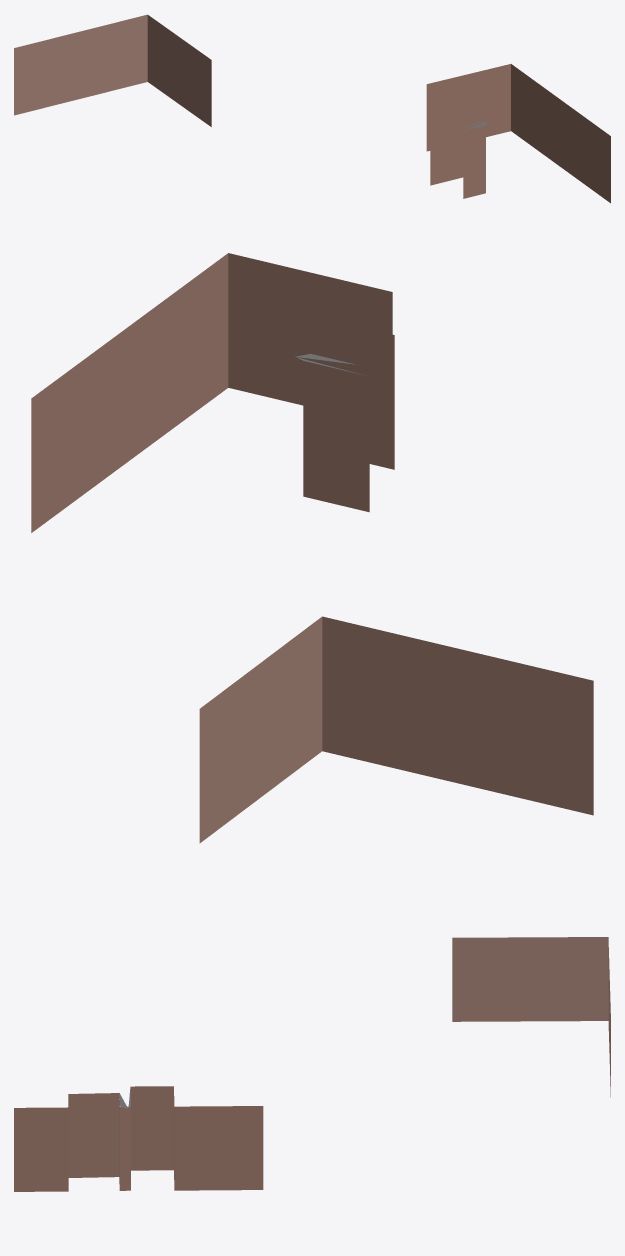
File: c_1630_17832_buildings_residential.glb
3 views of the same model, one above another, from view 1: azimuth 30°, elevation 25°; view 2: azimuth 150°, elevation 25°; view 3: azimuth 270°, elevation 25° (orthographic). The views are drawn at different scales.
Parts seen in each view (by area): view 1: geometry_0; view 2: geometry_0; view 3: geometry_0.
Boxes of the visible parts, box(x1,y1,x2,y2) form: geometry_0: box(14, 14, 610, 203); geometry_0: box(31, 253, 593, 843); geometry_0: box(14, 937, 610, 1191).
Bounding box in the file's own units: 61.35 × 11.34 × 70.79.
